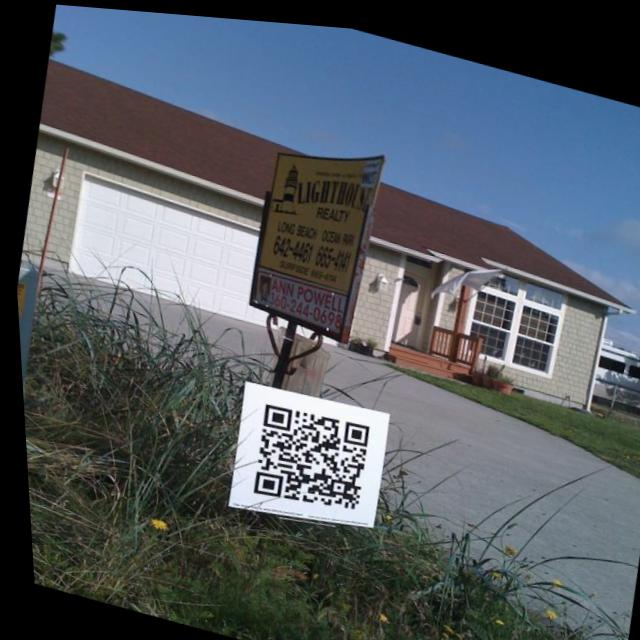qrcode: (244, 395, 370, 518)
